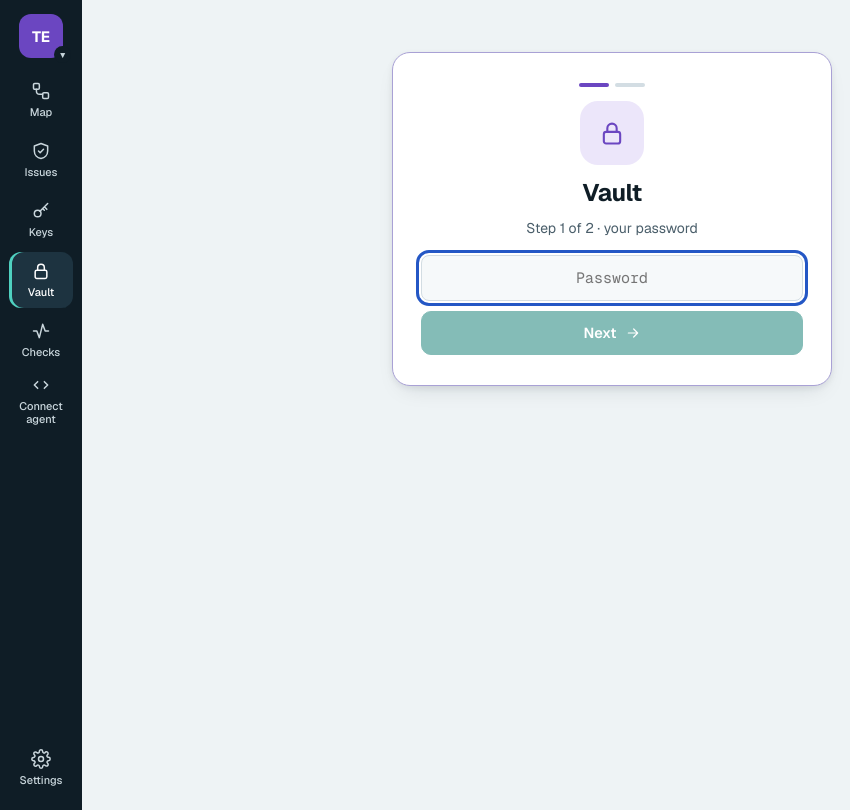
Test: a wrong password stays on step one and says so
Type "wrong password" into the password field labelled "Password" at [612, 278], box [421,255,803,301]
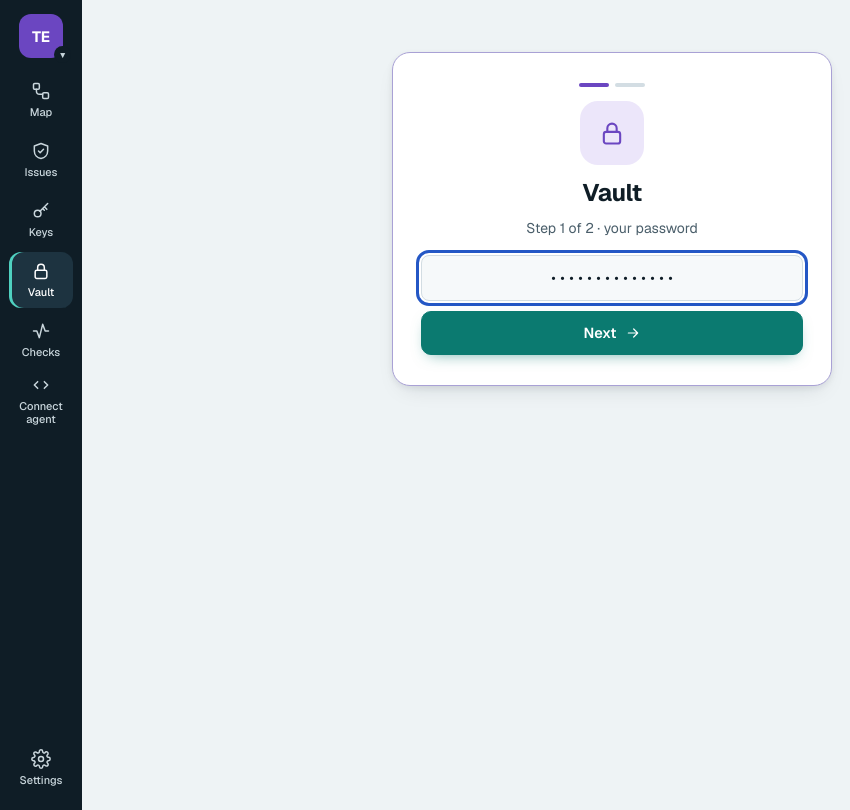
Click the button "Next" at [612, 333], box [421,311,803,355]
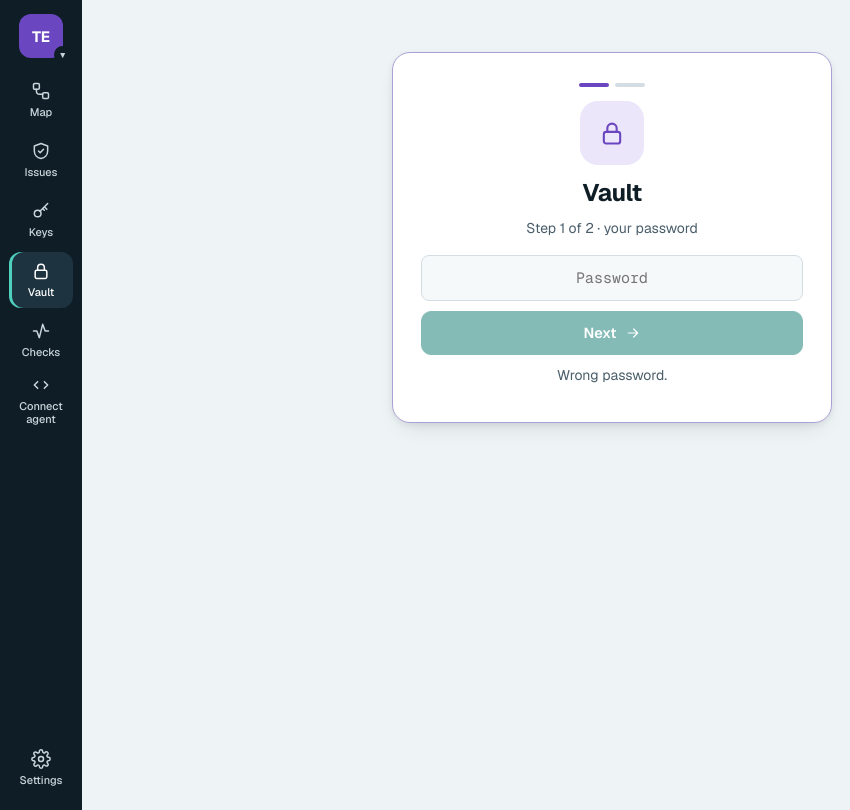
Expected: the text "Step 1 of 2 · your password" is shown, [526,219,698,237]
Result: the message shows "Wrong password" at [557,366,667,384]
